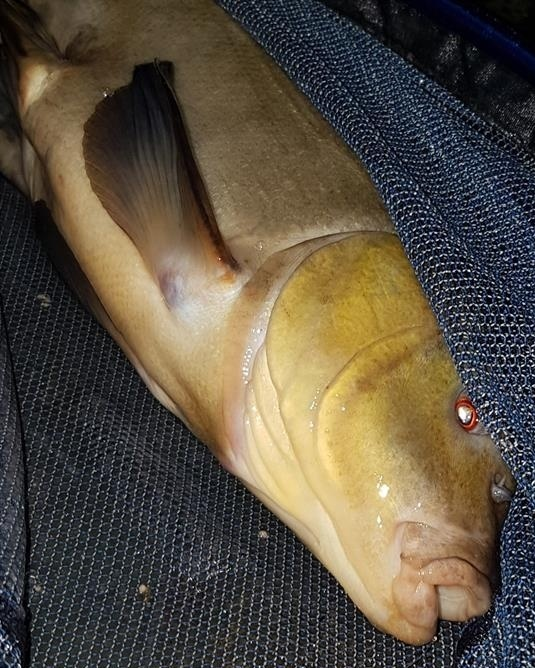Tinca tinca: (1, 1, 515, 648)
